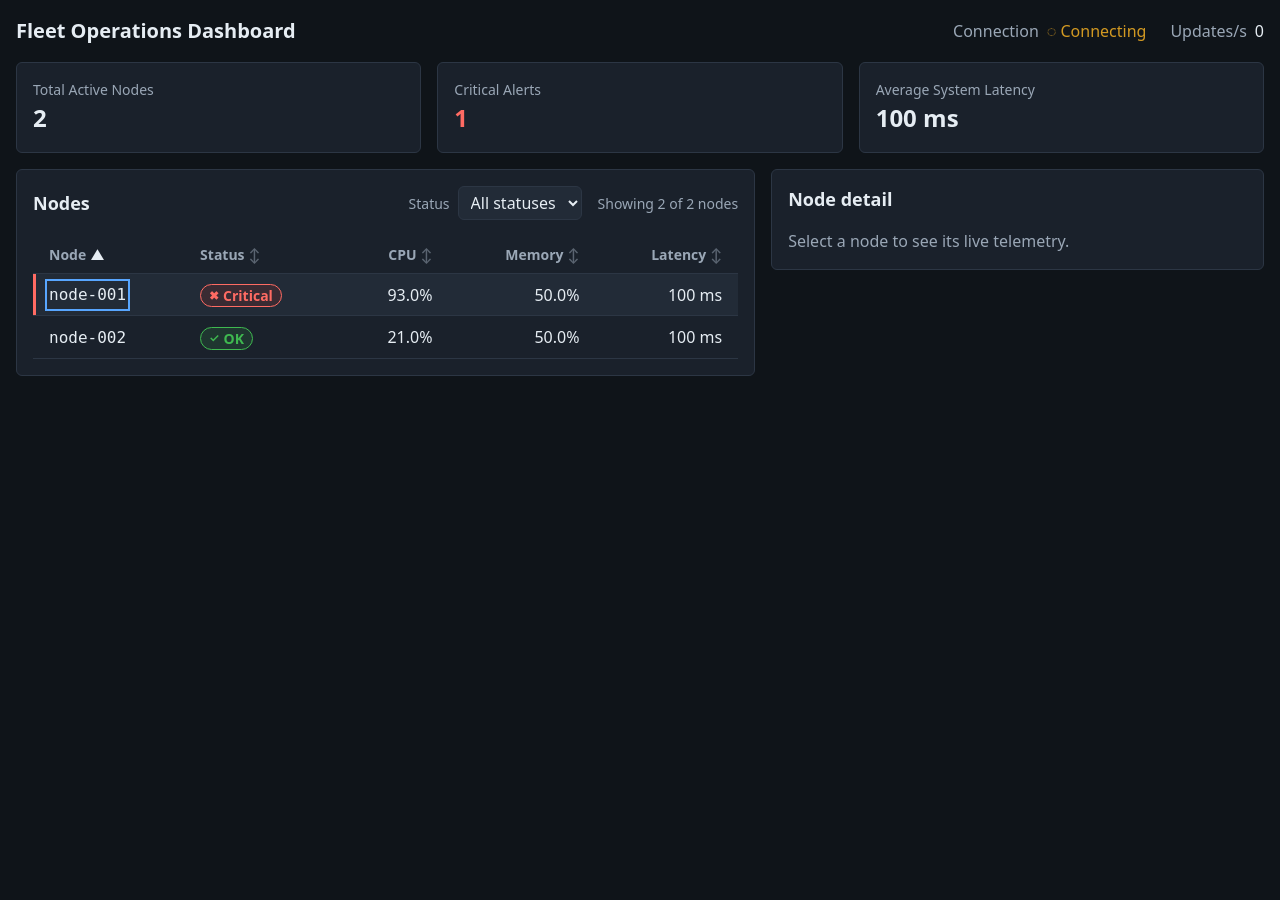
App node selection › opens the detail panel from the table with the keyboard and follows the stream
expect the text "Select a node to see its live telemetry." is shown: met, box [788,230,1069,252]
Press Enter
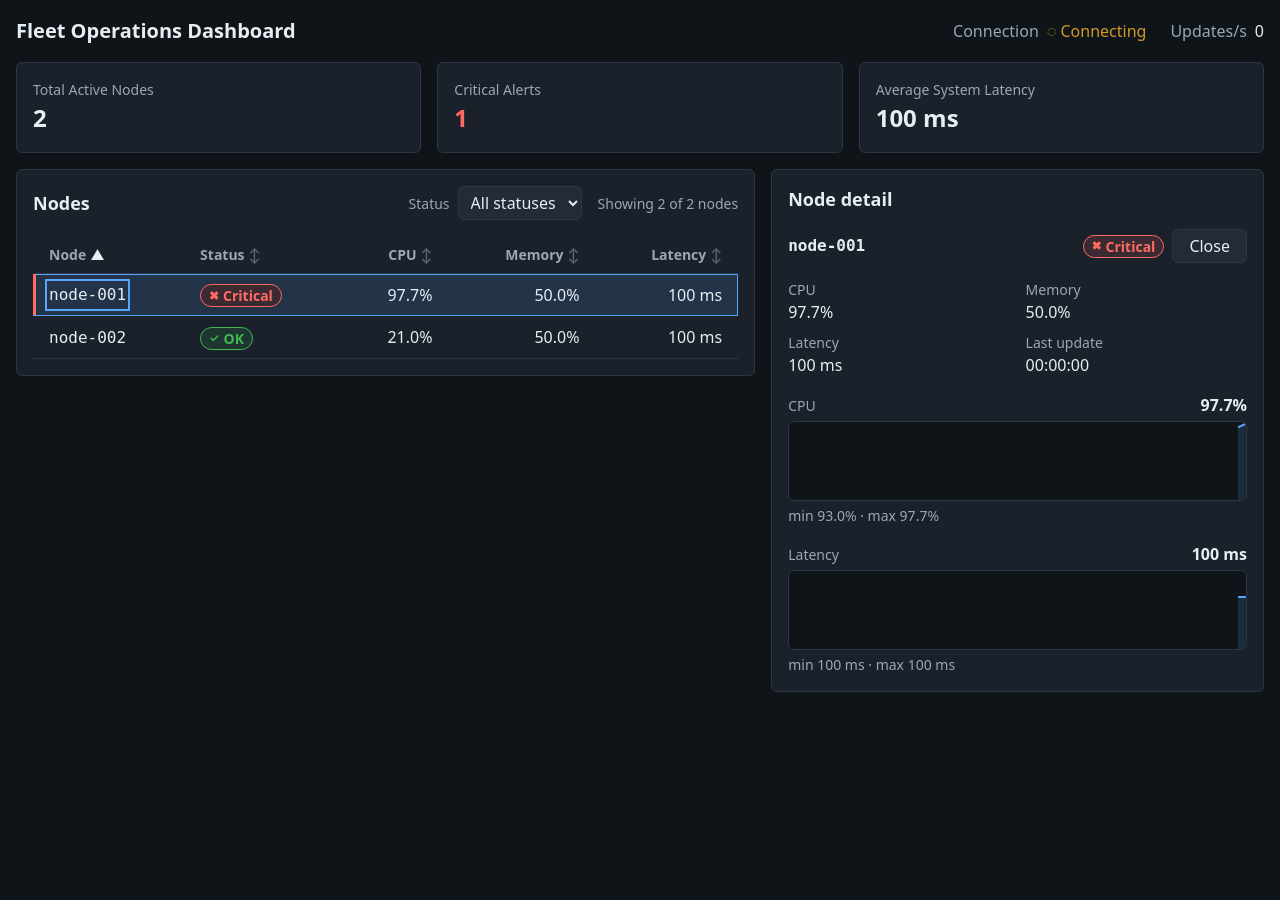
expect the heading "node-001" is shown: met, box [788,234,865,258]
expect the number of pictures is 2: met, box [788,421,1247,501]; [788,570,1247,650]
expect the 1st text "97.7%" is shown: met, box [788,301,833,323]
Click the button "Close".
click(1210, 246)  # box [1172,229,1247,263]
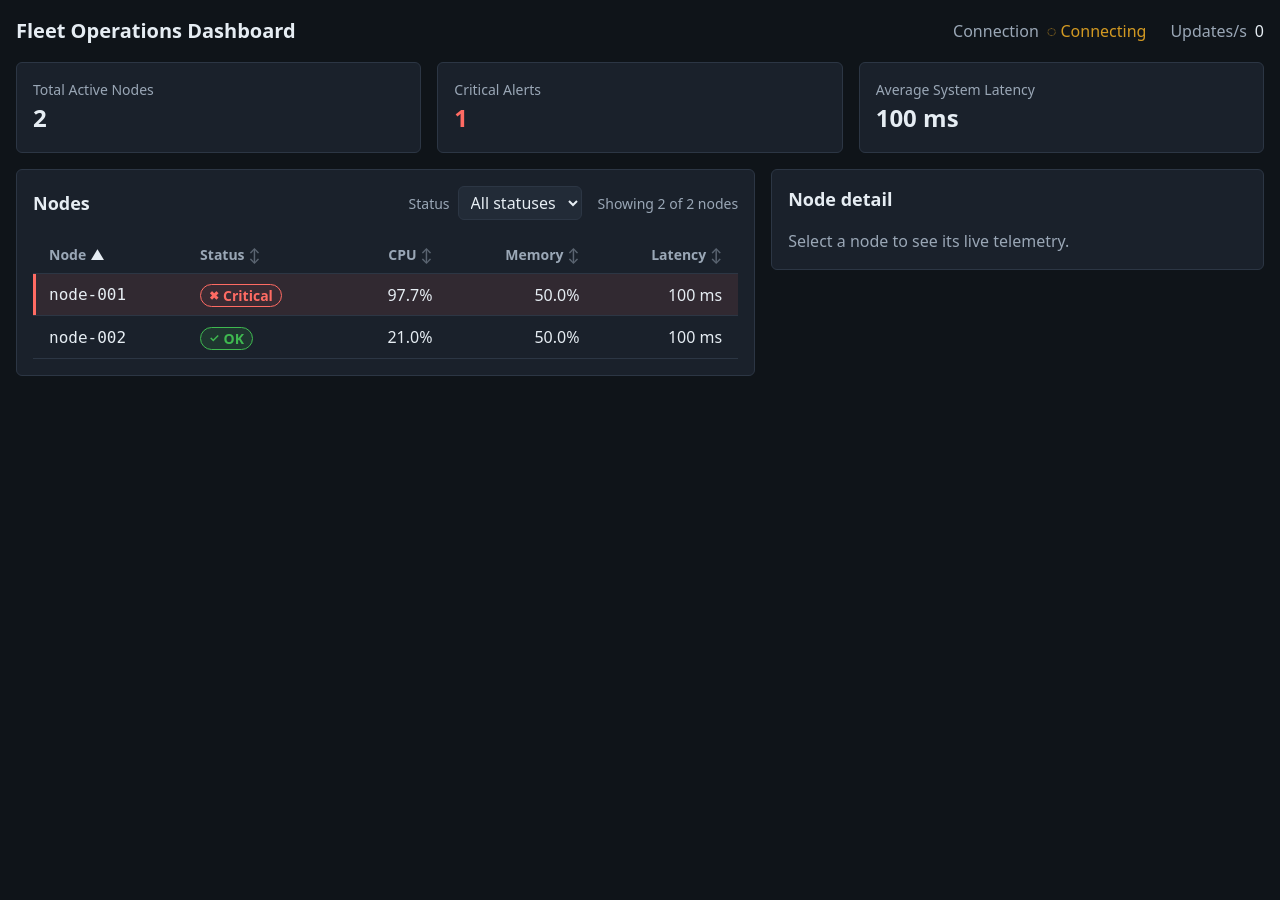
expect the text "Select a node to see its live telemetry." is shown: met, box [788,230,1069,252]
